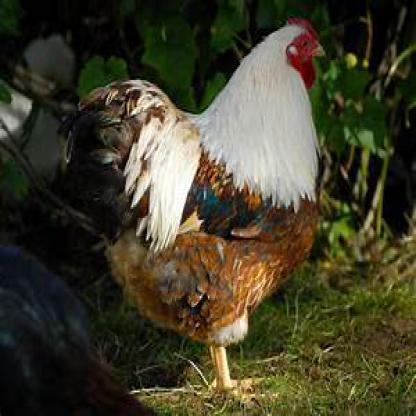chicken: (80, 20, 326, 391)
